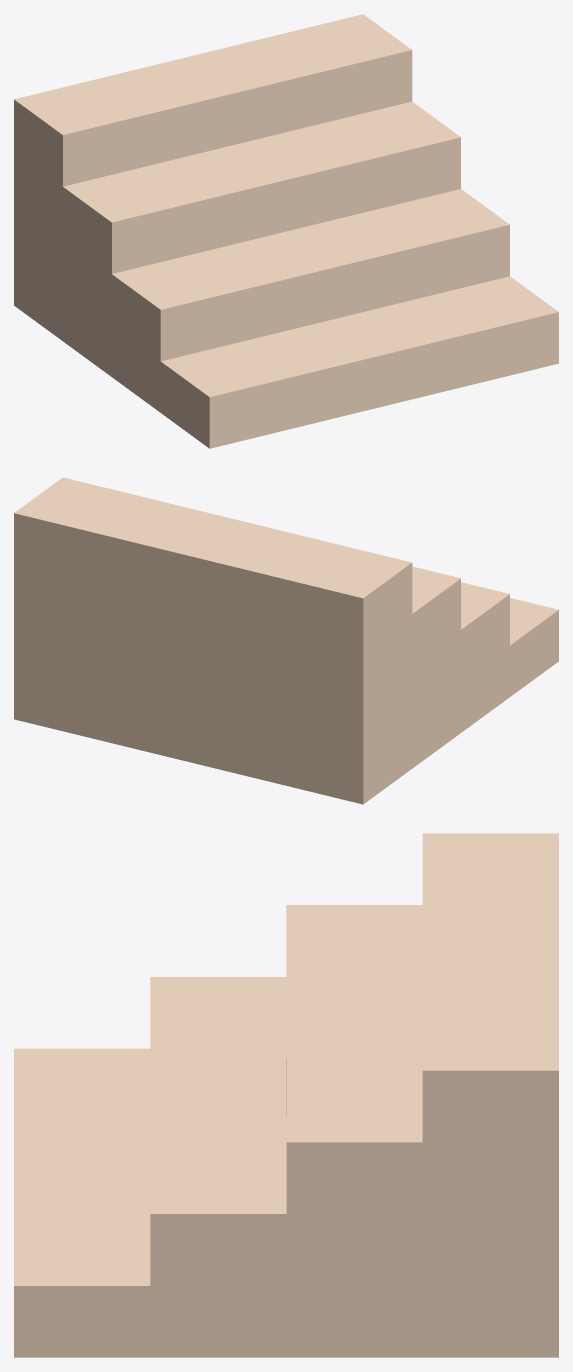
The model's file is Abstract_Modular_Stairs_Doorway_Beige_01.fbx.
3 views of the same model, one above another, from view 1: azimuth 30°, elevation 25°; view 2: azimuth 150°, elevation 25°; view 3: azimuth 270°, elevation 25° (orthographic). The views are drawn at different scales.
Visible parts, largest first — view 1: Abstract_Modular_Stairs_Doorway_Beige_01; view 2: Abstract_Modular_Stairs_Doorway_Beige_01; view 3: Abstract_Modular_Stairs_Doorway_Beige_01.
Part boxes in pixels (x1,y1,x2,y2): Abstract_Modular_Stairs_Doorway_Beige_01: [14, 14, 558, 448]; Abstract_Modular_Stairs_Doorway_Beige_01: [14, 477, 558, 804]; Abstract_Modular_Stairs_Doorway_Beige_01: [14, 833, 558, 1357].
Bounding box in the file's own units: 1060 × 598 × 1029.
